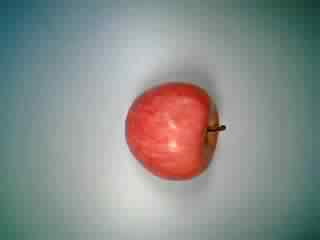apple: (122, 79, 226, 183)
